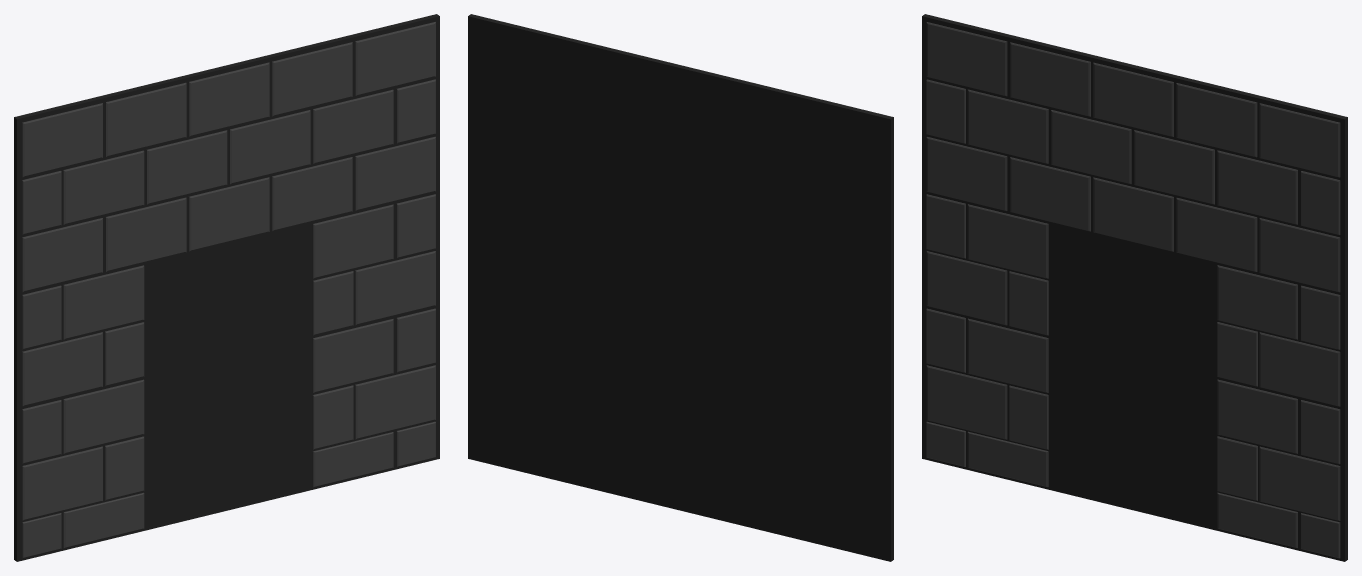
File: Wall_5.fbx
3 views of the same model, side by side, from view 1: azimuth 30°, elevation 25°; view 2: azimuth 150°, elevation 25°; view 3: azimuth 330°, elevation 25° (orthographic).
Parts seen in each view (by area): view 1: Plane.004; view 2: Plane.004; view 3: Plane.004.
Part boxes in pixels (x1,y1,x2,y2): Plane.004: [14, 14, 439, 561]; Plane.004: [468, 14, 893, 561]; Plane.004: [922, 14, 1347, 561].
Bounding box in the file's own units: 400 × 400 × 6.41.
Materials: 1 (1 with a texture image).
